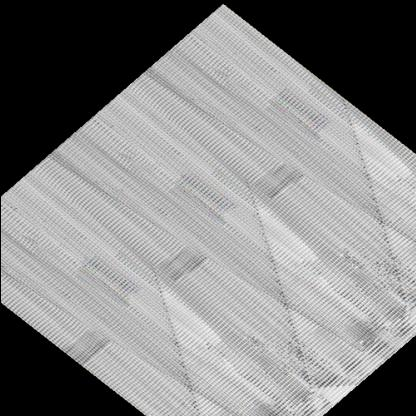Damage: (174, 148, 330, 232)
